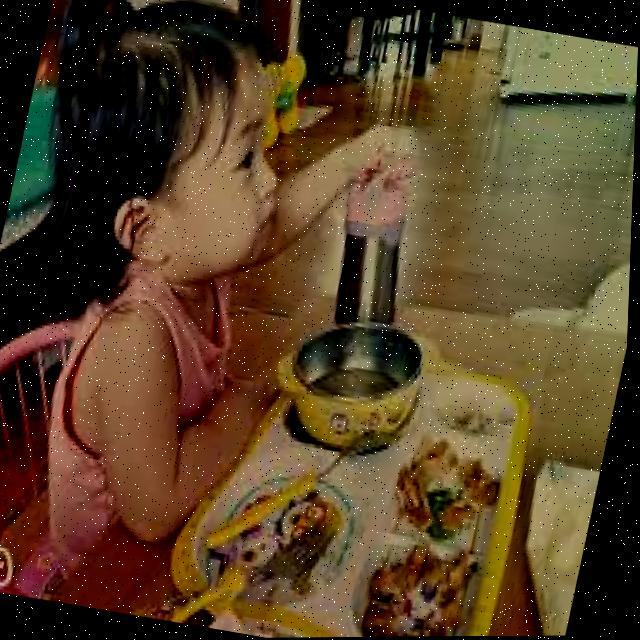eating-person: (0, 0, 446, 601)
